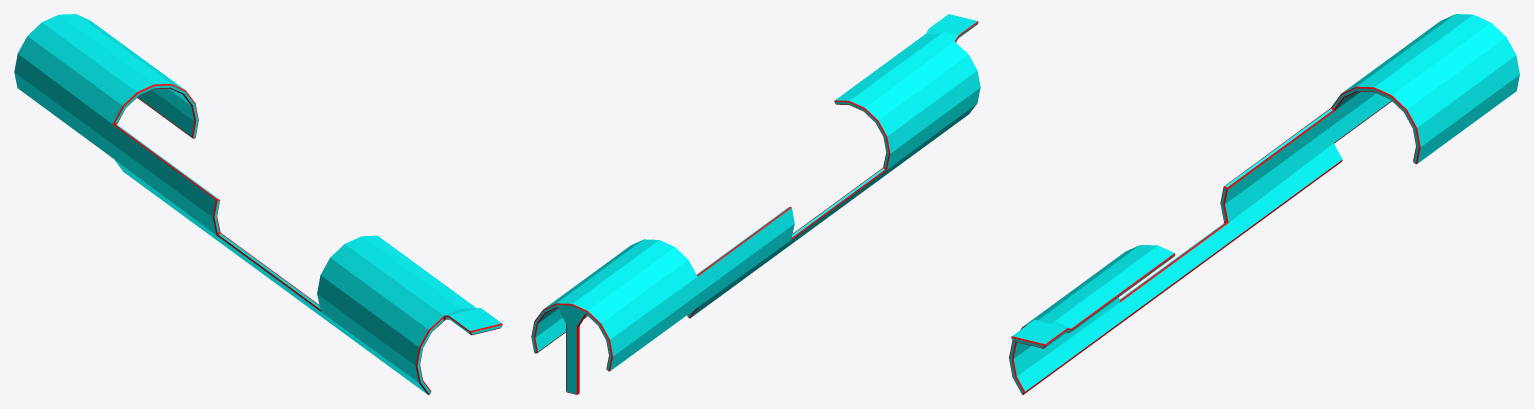
The model's file is L13_Cross_Platform.fbx.
3 renders of one model, left to right at view 1: azimuth 30°, elevation 25°; view 2: azimuth 150°, elevation 25°; view 3: azimuth 330°, elevation 25°, orthographic. The views are drawn at different scales.
Visible parts, largest first — view 1: L13_Cross_Platform; view 2: L13_Cross_Platform; view 3: L13_Cross_Platform.
Part boxes in pixels (bbox=[...]): L13_Cross_Platform: bbox=[14, 14, 502, 394]; L13_Cross_Platform: bbox=[531, 14, 980, 394]; L13_Cross_Platform: bbox=[1009, 14, 1519, 394].
Bounding box in the file's own units: 400 × 420 × 3325.
